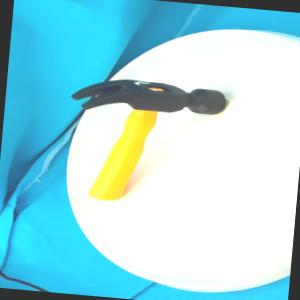martelo: (61, 74, 227, 210)
